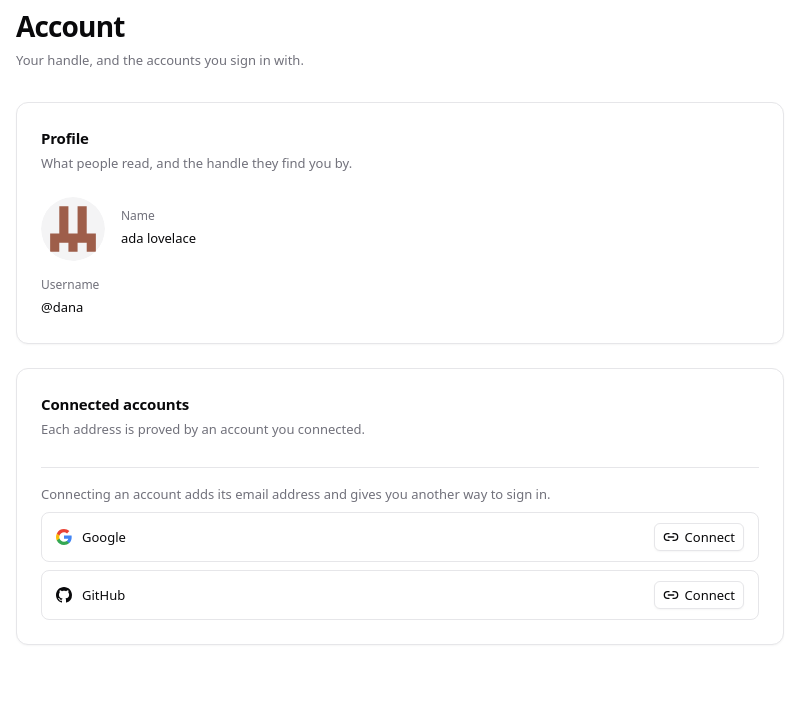
Scenario: a link the server refuses says so and gives the buttons back
This screenshot has width=801, height=720.
Click the button "Connect" in the row of "Google" at (699, 537), box [654, 523, 744, 551]
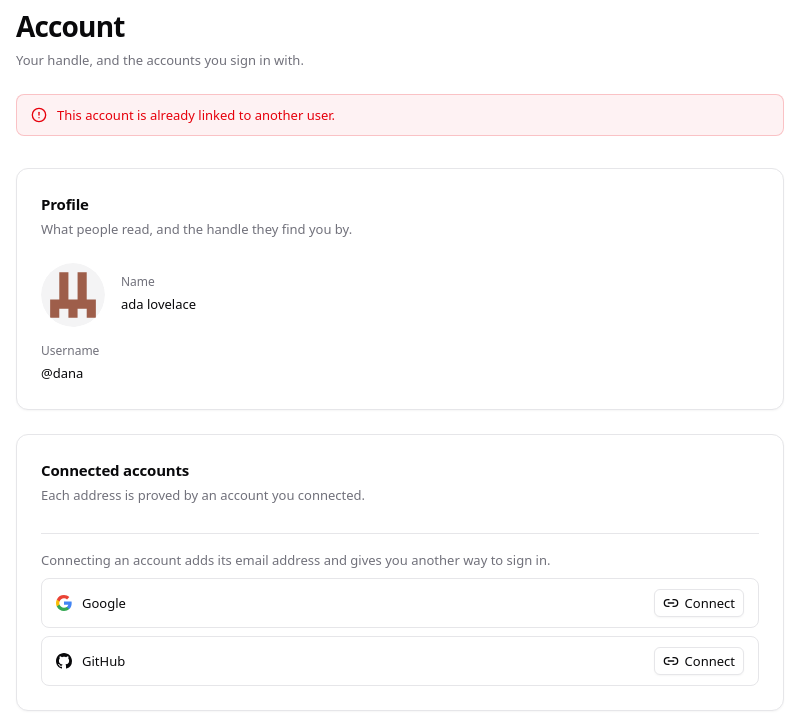
Expected: the button "Connect" in the row of "Google" is enabled, [654, 589, 744, 617]
Now the text "This account is already linked to another user." is shown, box [57, 106, 335, 124]
